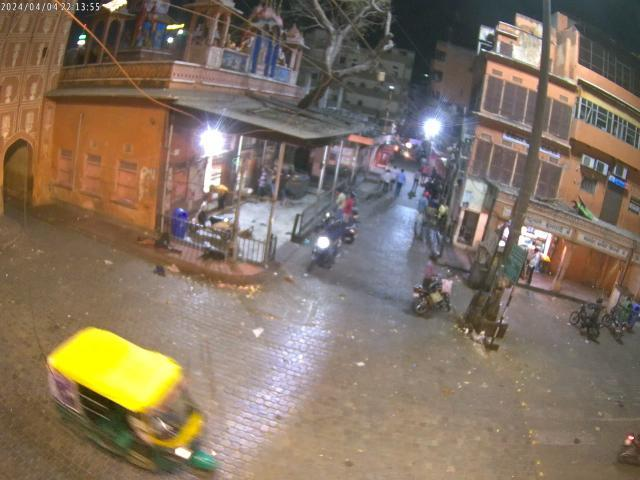auto: (42, 328, 215, 480)
motorbike: (603, 308, 626, 341)
motorbike-rider: (416, 256, 454, 317)
scooty-rider: (571, 296, 605, 341)
